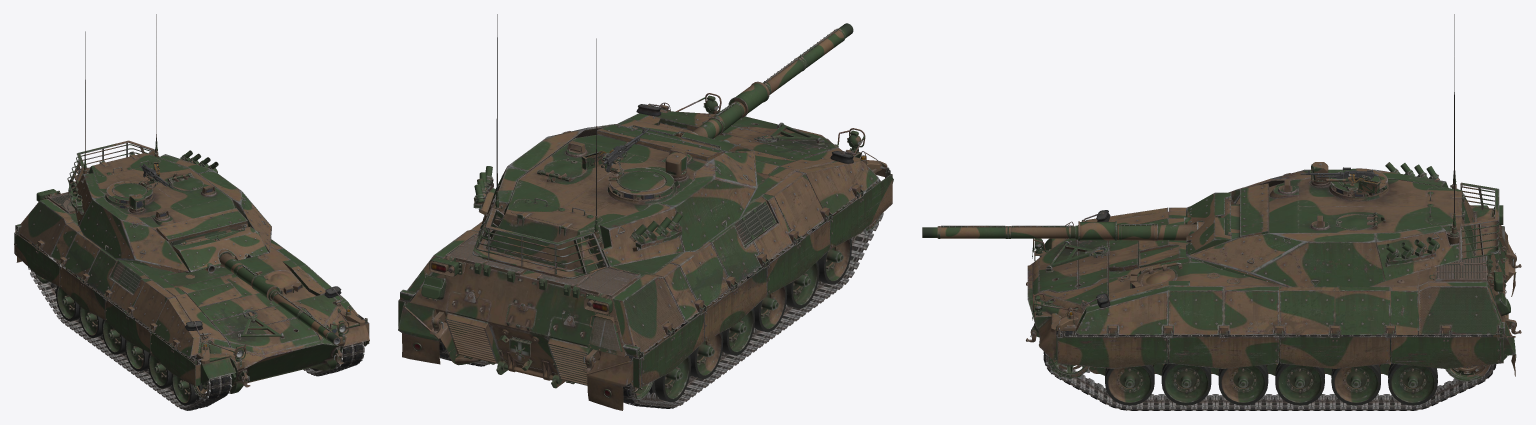
The model's file is tam_2ip_war_thunder.glb.
The picture shows the model from 3 angles, left to right: view 1: azimuth 30°, elevation 25°; view 2: azimuth 150°, elevation 25°; view 3: azimuth 270°, elevation 25°; orthographic projection. The views are drawn at different scales.
Visible parts, largest first — view 1: Object_12, Object_13, Object_23, Object_17, Object_14, Object_9, Object_21, Object_24, Object_4, Object_18, Object_3, Object_26 (+1 smaller); view 2: Object_12, Object_23, Object_14, Object_17, Object_13, Object_24, Object_25, Object_21, Object_9, Object_4, Object_18, Object_26 (+3 smaller); view 3: Object_12, Object_14, Object_13, Object_20, Object_17, Object_23, Object_9, Object_3, Object_24, Object_18, Object_26, Object_25 (+1 smaller).
Part boxes in pixels (x1=…): Object_12: x1=14, y1=170, x2=369, y2=386; Object_13: x1=67, y1=140, x2=358, y2=354; Object_23: x1=36, y1=189, x2=365, y2=393; Object_17: x1=81, y1=141, x2=247, y2=247; Object_14: x1=68, y1=150, x2=283, y2=357; Object_9: x1=172, y1=226, x2=340, y2=345; Object_21: x1=56, y1=282, x2=205, y2=405; Object_24: x1=14, y1=192, x2=369, y2=387; Object_4: x1=28, y1=243, x2=231, y2=410; Object_18: x1=95, y1=153, x2=203, y2=200; Object_3: x1=303, y1=342, x2=364, y2=376; Object_26: x1=51, y1=192, x2=140, y2=292; Object_12: x1=398, y1=124, x2=892, y2=388; Object_23: x1=410, y1=97, x2=887, y2=388; Object_14: x1=407, y1=158, x2=878, y2=293; Object_17: x1=486, y1=135, x2=710, y2=272; Object_13: x1=472, y1=103, x2=855, y2=279; Object_24: x1=398, y1=93, x2=893, y2=410; Object_25: x1=445, y1=233, x2=808, y2=385; Object_21: x1=649, y1=238, x2=851, y2=402; Object_9: x1=619, y1=23, x2=853, y2=152; Object_4: x1=623, y1=178, x2=883, y2=408; Object_18: x1=510, y1=158, x2=665, y2=228; Object_26: x1=449, y1=203, x2=773, y2=311; Object_12: x1=1054, y1=169, x2=1507, y2=368; Object_14: x1=1085, y1=162, x2=1501, y2=334; Object_13: x1=1032, y1=182, x2=1499, y2=334; Object_20: x1=1045, y1=335, x2=1437, y2=405; Object_17: x1=1231, y1=168, x2=1475, y2=260; Object_23: x1=1027, y1=205, x2=1516, y2=373; Object_9: x1=922, y1=192, x2=1234, y2=260; Object_3: x1=1043, y1=331, x2=1496, y2=410; Object_24: x1=1026, y1=207, x2=1521, y2=376; Object_18: x1=1336, y1=176, x2=1463, y2=230; Object_26: x1=1436, y1=212, x2=1499, y2=279; Object_25: x1=1096, y1=242, x2=1508, y2=375.
Size of the model in its own units: 3.42 by 5.02 by 8.25.
Materials: 16 (16 with a texture image).
